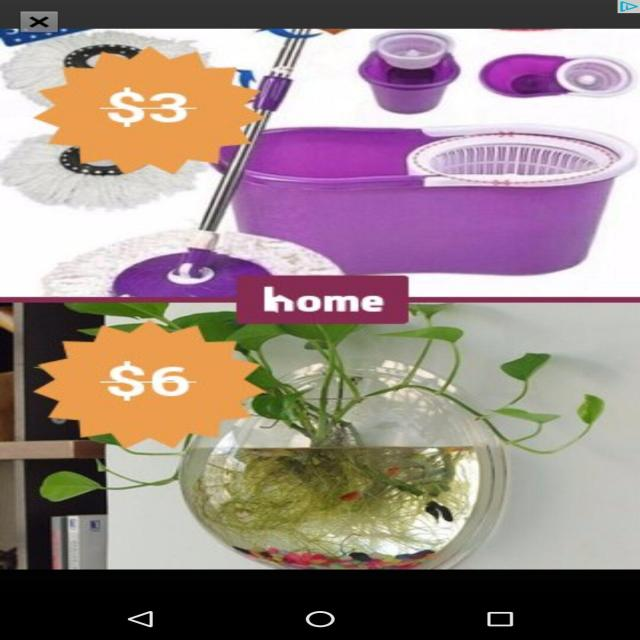icon: (4, 8, 69, 36)
image: (0, 304, 615, 564), (7, 39, 605, 284)
text: (83, 352, 204, 402), (105, 87, 195, 129), (255, 288, 374, 316)
